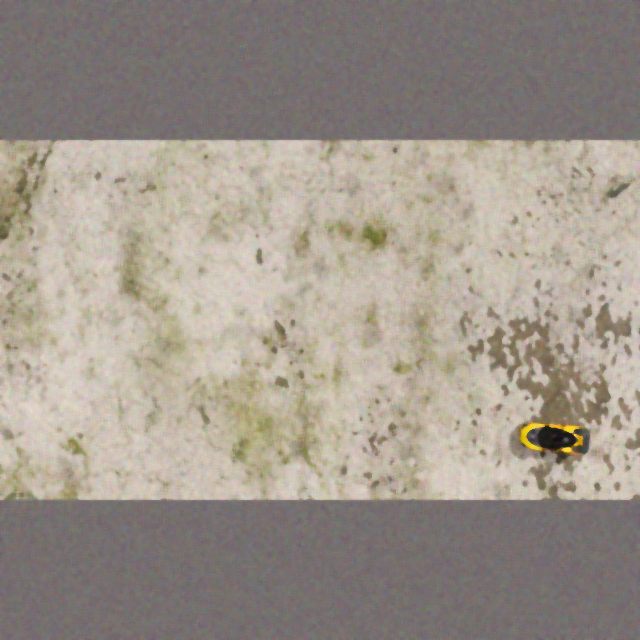car: (517, 418, 592, 457)
